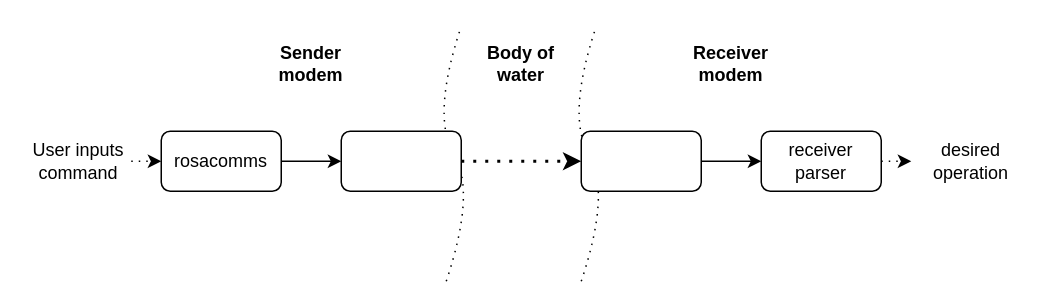
The diagram is 1056 pixels wide and 308 high, and some of its shapes have lost their labels. Each missing label, with the centre of its shape:
receiver modem driver: the point at 640,160
sender modem driver: the point at 400,160
